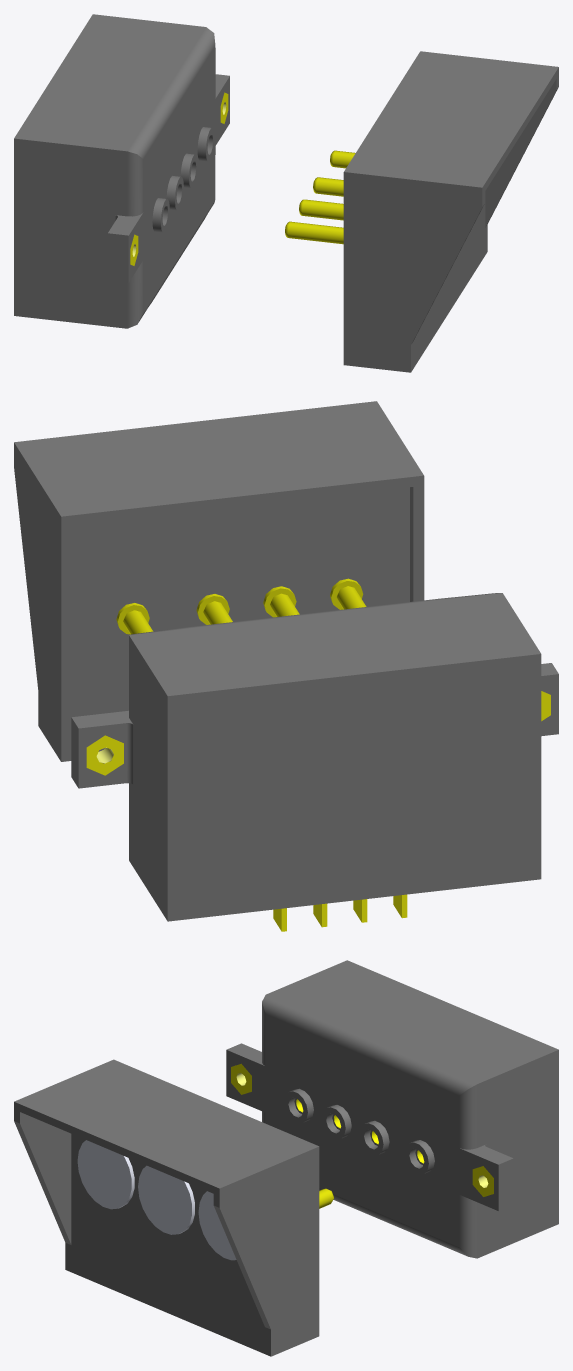
The model's file is 04.4_blok-indikatsii-napryazheniya-evi-4.glb.
3 views of the same model, one above another, from view 1: azimuth 30°, elevation 25°; view 2: azimuth 150°, elevation 25°; view 3: azimuth 270°, elevation 25° (orthographic). The views are drawn at different scales.
Parts seen in each view (by area): view 1: 04.4_blok-indikatsii-napryazheniya-evi-4; view 2: 04.4_blok-indikatsii-napryazheniya-evi-4; view 3: 04.4_blok-indikatsii-napryazheniya-evi-4.
Part boxes in pixels (x1,y1,x2,y2): 04.4_blok-indikatsii-napryazheniya-evi-4: [14, 14, 558, 372]; 04.4_blok-indikatsii-napryazheniya-evi-4: [14, 401, 558, 931]; 04.4_blok-indikatsii-napryazheniya-evi-4: [14, 960, 558, 1356].
Bounding box in the file's own units: 127 × 53.5 × 127.
